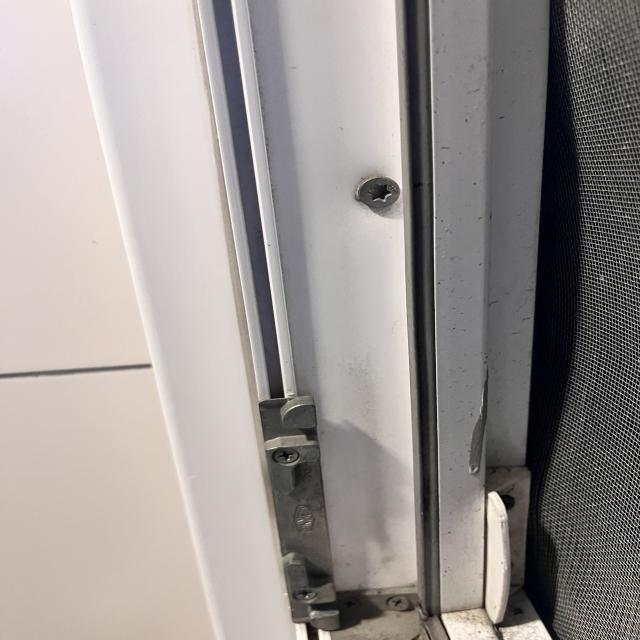phillips: (272, 448, 300, 463), (338, 596, 361, 611), (387, 596, 410, 610), (293, 588, 317, 600)
torx: (358, 176, 400, 208)
